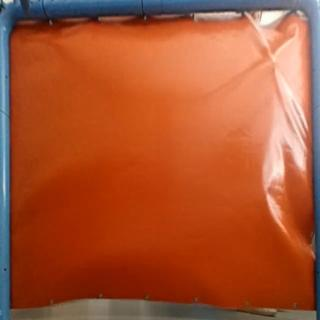Hit-hRxx: (266, 51, 284, 72)
